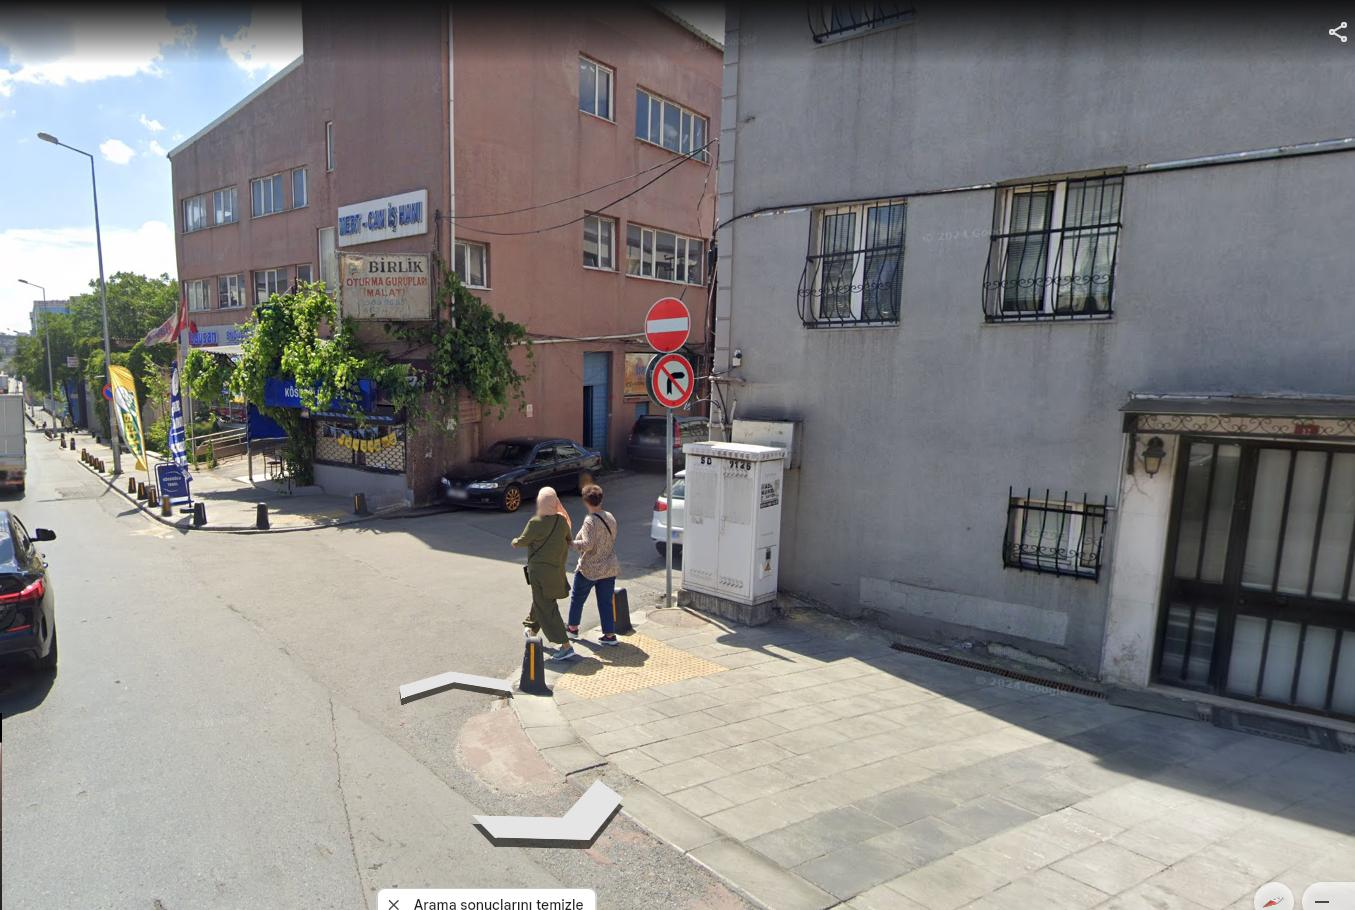rightturnsareforbidden: (651, 351, 697, 406)
